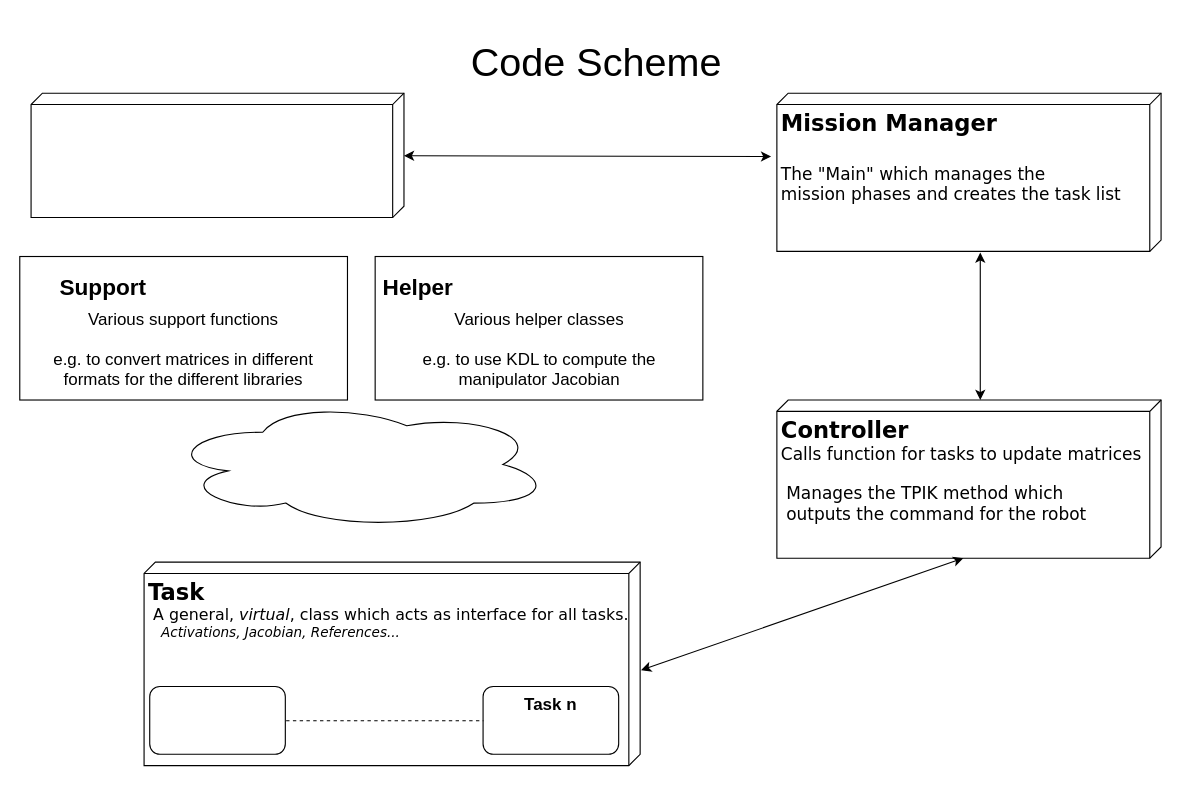
This 1181x785 diagram has some shape labels left out. The centre of each missing label's shape, as x and y in pixels:
"External Libraries Eigen, KDL, CMAT, TF..." belongs at (358,464).
"RosInterface Gets state from robot and sends commands" belongs at (217,155).
"Task 1" belongs at (217,719).
